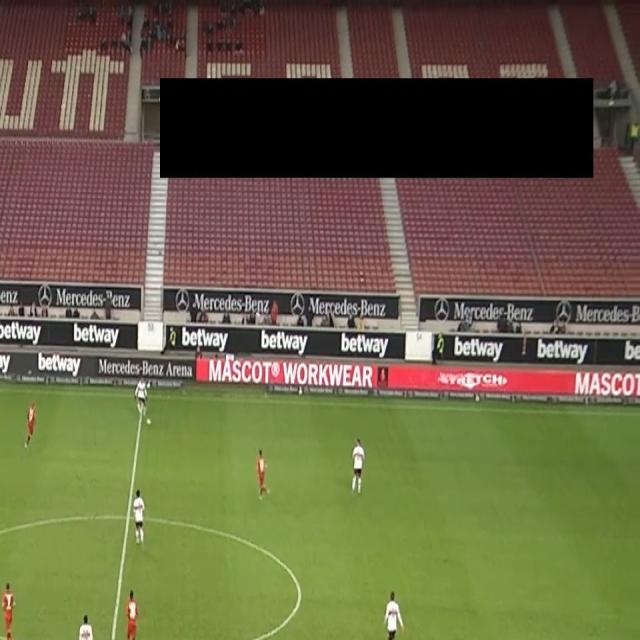ball: (146, 416, 152, 426)
